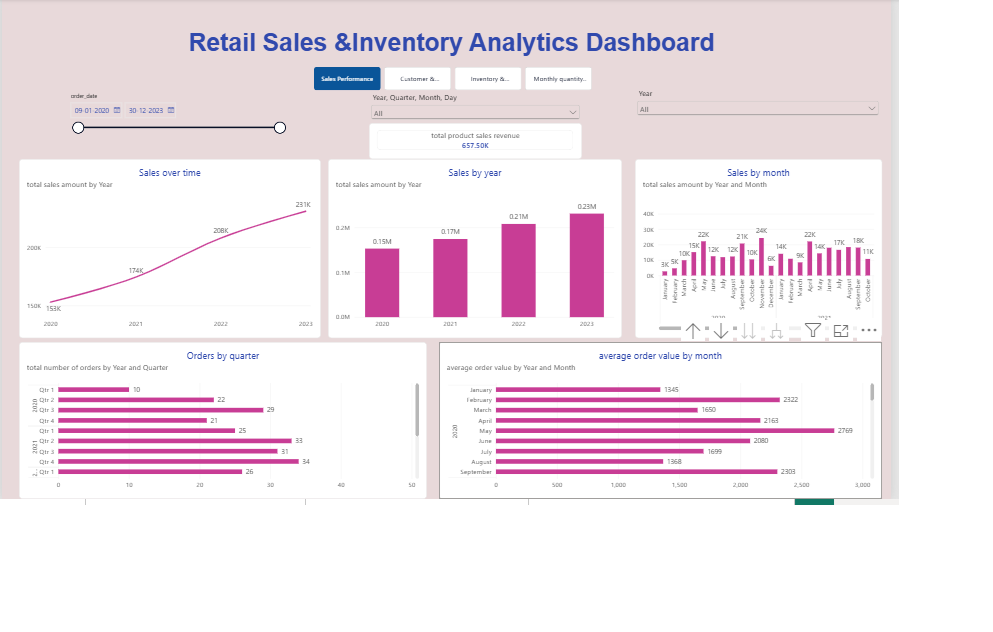

What the dashboard file says about the page in this screenshot:
{"tool":"powerbi","page":{"name":"Sales Performance","canvas":[1920,1080],"ordinal":0},"visuals":[{"type":"lineChart","title":"Sales over time","fields":{"Category":["Orders.order_date.Variation.Date Hierarchy.Year","Orders.order_date.Variation.Date Hierarchy.Quarter","Orders.order_date.Variation.Date Hierarchy.Month","Orders.order_date.Variation.Date Hierarchy.Day"],"Y":["Orders.total sales amount"]},"box":[36.7,345.6,652.3,386.6],"z":0},{"type":"textbox","box":[36.7,0,1864.1,146.9],"z":1000},{"type":"columnChart","title":"Sales by year","fields":{"Category":["Orders.order_date.Variation.Date Hierarchy.Year"],"Y":["Orders.total sales amount"]},"box":[704.2,345.6,635,386.6],"z":2000},{"type":"clusteredColumnChart","title":"Sales by month","fields":{"Category":["Orders.order_date.Variation.Date Hierarchy.Year","Orders.order_date.Variation.Date Hierarchy.Month"],"Y":["Orders.total sales amount"]},"box":[1367.3,345.6,533.5,386.6],"z":3000},{"type":"clusteredBarChart","title":"Orders by quarter","fields":{"Category":["Orders.order_date.Variation.Date Hierarchy.Year","Orders.order_date.Variation.Date Hierarchy.Quarter"],"Y":["Orders.total number of orders"]},"box":[36.7,740.9,881.3,339.1],"z":4000},{"type":"clusteredBarChart","title":"average order value by month","fields":{"Category":["Orders.order_date.Variation.Date Hierarchy.Year","Orders.order_date.Variation.Date Hierarchy.Month"],"Y":["Orders.average order value"]},"box":[943.9,740.9,956.9,339.1],"z":5000},{"type":"textbox","box":[578.9,196.6,760.3,75.6],"z":6000},{"type":"pageNavigator","box":[673.9,146.9,600,50],"z":7000},{"type":"slicer","fields":{"Values":["Orders.order_date"]},"box":[140.4,200.9,475.2,105.8],"z":8000},{"type":"slicer","fields":{"Values":["Orders.order_date.Variation.Date Hierarchy.Year"]},"box":[1367.3,192.2,531.4,99.4],"z":9000},{"type":"slicer","fields":{"Values":["Orders.order_date.Variation.Date Hierarchy.Year","Orders.order_date.Variation.Date Hierarchy.Quarter","Orders.order_date.Variation.Date Hierarchy.Month","Orders.order_date.Variation.Date Hierarchy.Day"]},"box":[792.7,200.9,460.1,67],"z":10000},{"type":"cardVisual","fields":{"Data":["Order_items.total product sales revenue"]},"box":[792.7,267.8,460.1,77.8],"z":11000}]}

Visuals, with their boxes on the page's 1920x1080 design canvas (x1, y1, x2, y2). These are canvas units, not pixel positions in the 993x632 screenshot, which may show the page scaled, cropped or inside an application window:
"Sales over time" lineChart: left=37, top=346, right=689, bottom=732
textbox: left=37, top=0, right=1901, bottom=147
"Sales by year" columnChart: left=704, top=346, right=1339, bottom=732
"Sales by month" clusteredColumnChart: left=1367, top=346, right=1901, bottom=732
"Orders by quarter" clusteredBarChart: left=37, top=741, right=918, bottom=1080
"average order value by month" clusteredBarChart: left=944, top=741, right=1901, bottom=1080
textbox: left=579, top=197, right=1339, bottom=272
pageNavigator: left=674, top=147, right=1274, bottom=197
slicer - Orders.order_date: left=140, top=201, right=616, bottom=307
slicer - Orders.order_date.Variation.Date Hierarchy.Year: left=1367, top=192, right=1899, bottom=292
slicer - Orders.order_date.Variation.Date Hierarchy.Year x Orders.order_date.Variation.Date Hierarchy.Quarter: left=793, top=201, right=1253, bottom=268
cardVisual - Order_items.total product sales revenue: left=793, top=268, right=1253, bottom=346
